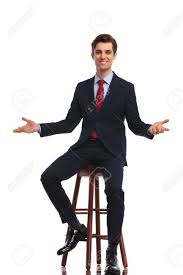sitting: (10, 32, 175, 275)
